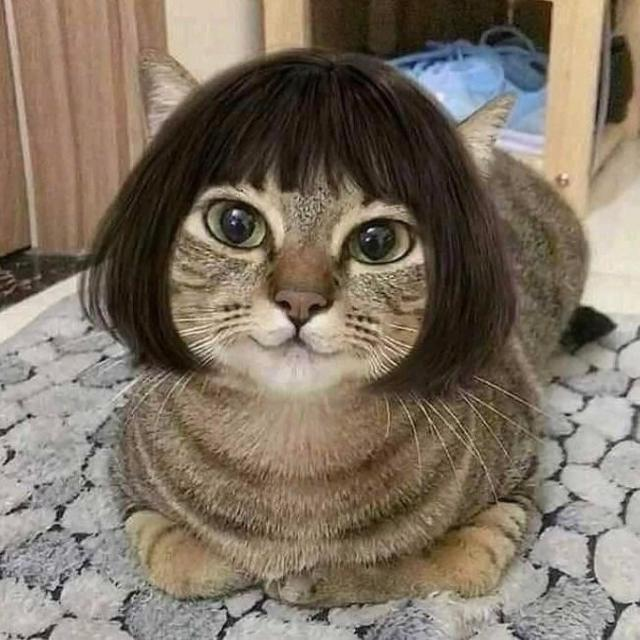Cats: (70, 90, 571, 608)
